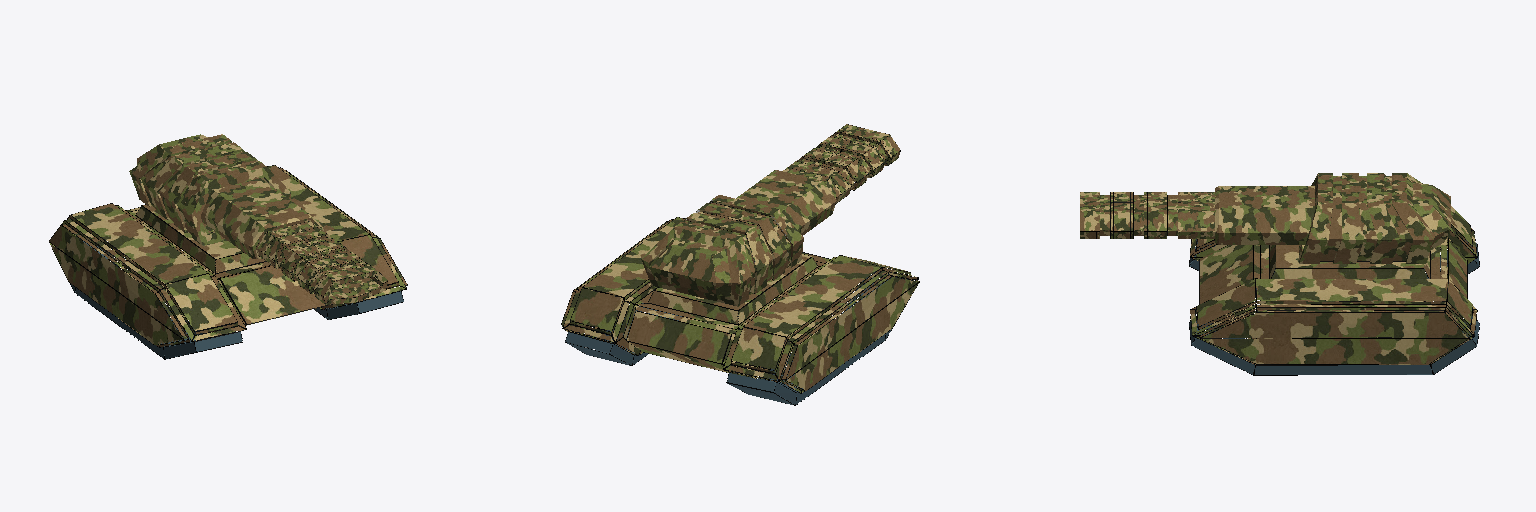
The picture shows the model from 3 angles: view 1: azimuth 30°, elevation 25°; view 2: azimuth 150°, elevation 25°; view 3: azimuth 270°, elevation 25°; orthographic projection.
Parts seen in each view (by area): view 1: Cube, Cube.004, Cube.001; view 2: Cube, Cube.004, Cube.001; view 3: Cube, Cube.004, Cube.001.
Part boxes in pixels (bbox=[...]): Cube: bbox=[49, 165, 407, 359]; Cube.004: bbox=[129, 134, 323, 258]; Cube.001: bbox=[256, 221, 387, 304]; Cube: bbox=[561, 217, 919, 405]; Cube.004: bbox=[641, 170, 836, 306]; Cube.001: bbox=[783, 124, 900, 204]; Cube: bbox=[1189, 206, 1479, 375]; Cube.004: bbox=[1215, 173, 1450, 263]; Cube.001: bbox=[1080, 192, 1214, 238].
Size of the model in its own units: 6.91 by 4.01 by 10.61.
Materials: 3 (3 with a texture image).